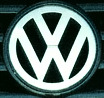Volkswagen: (2, 1, 104, 98)
